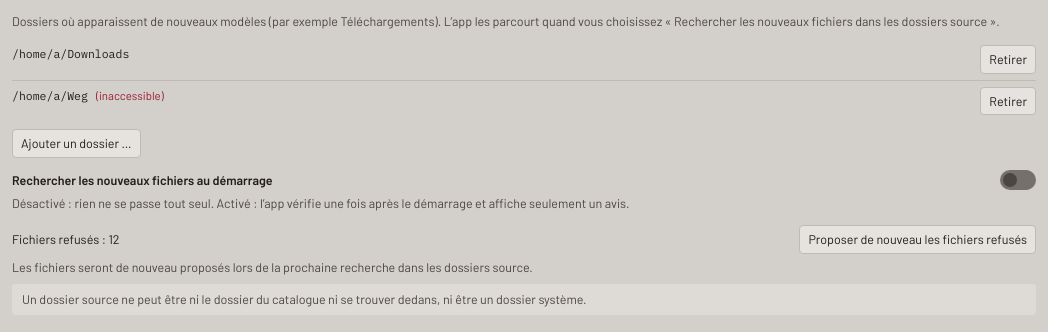
Test: keeps the full declined-file action operable in fr
The image size is (1048, 332).
Click the button "Proposer de nouveau les fichiers refusés": coordinates (918, 239) [799,225,1036,254]
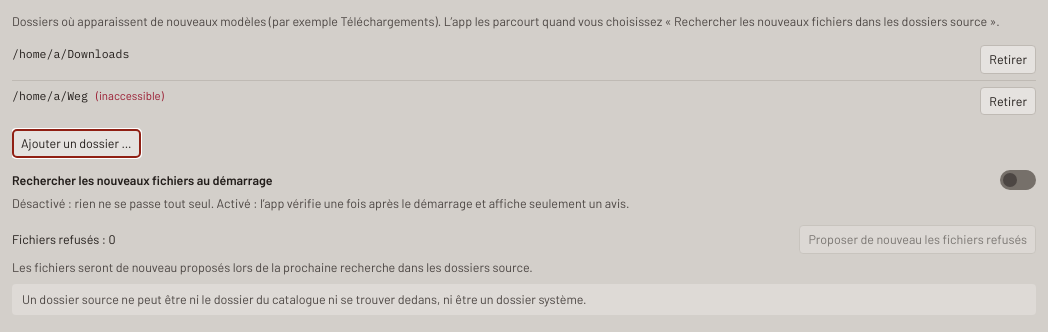
Expected: the button "Proposer de nouveau les fichiers refusés" is disabled, [799,225,1036,254]
